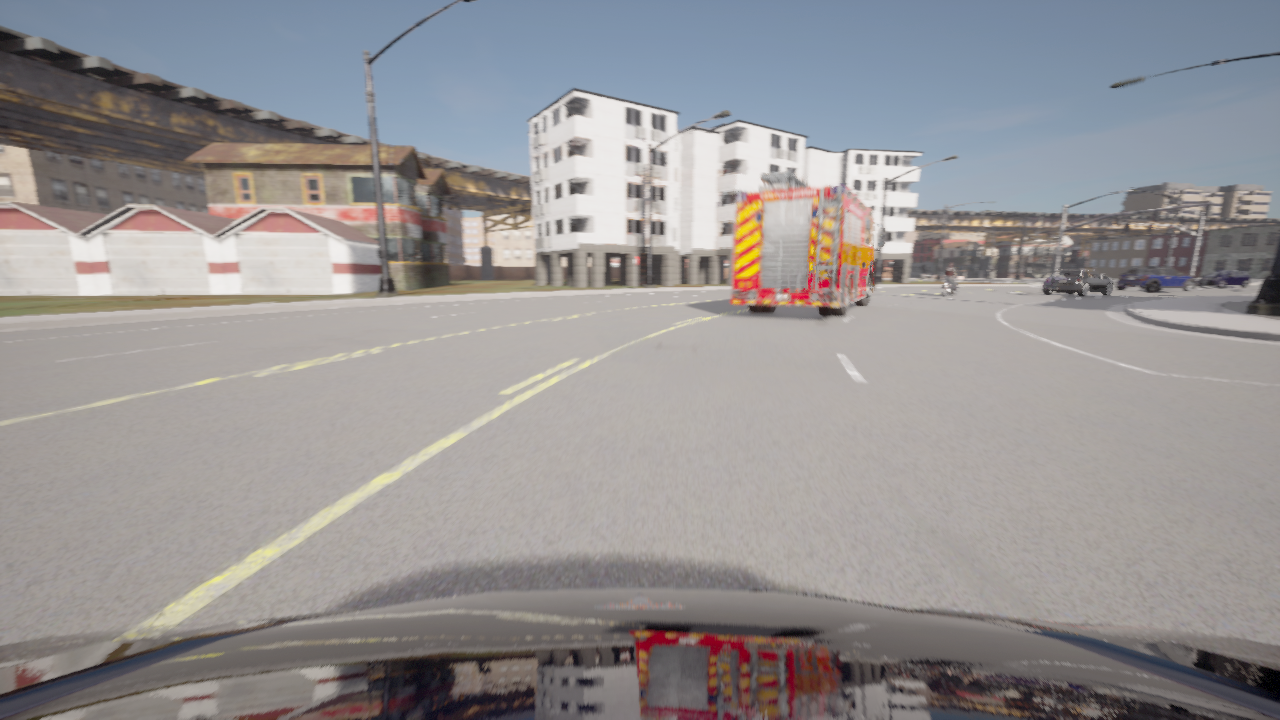cyclist: (0, 588, 1279, 719), (731, 171, 884, 317), (1116, 267, 1196, 291), (1043, 269, 1113, 296), (1197, 270, 1250, 287), (942, 278, 957, 295), (920, 273, 936, 277), (941, 273, 944, 278)
